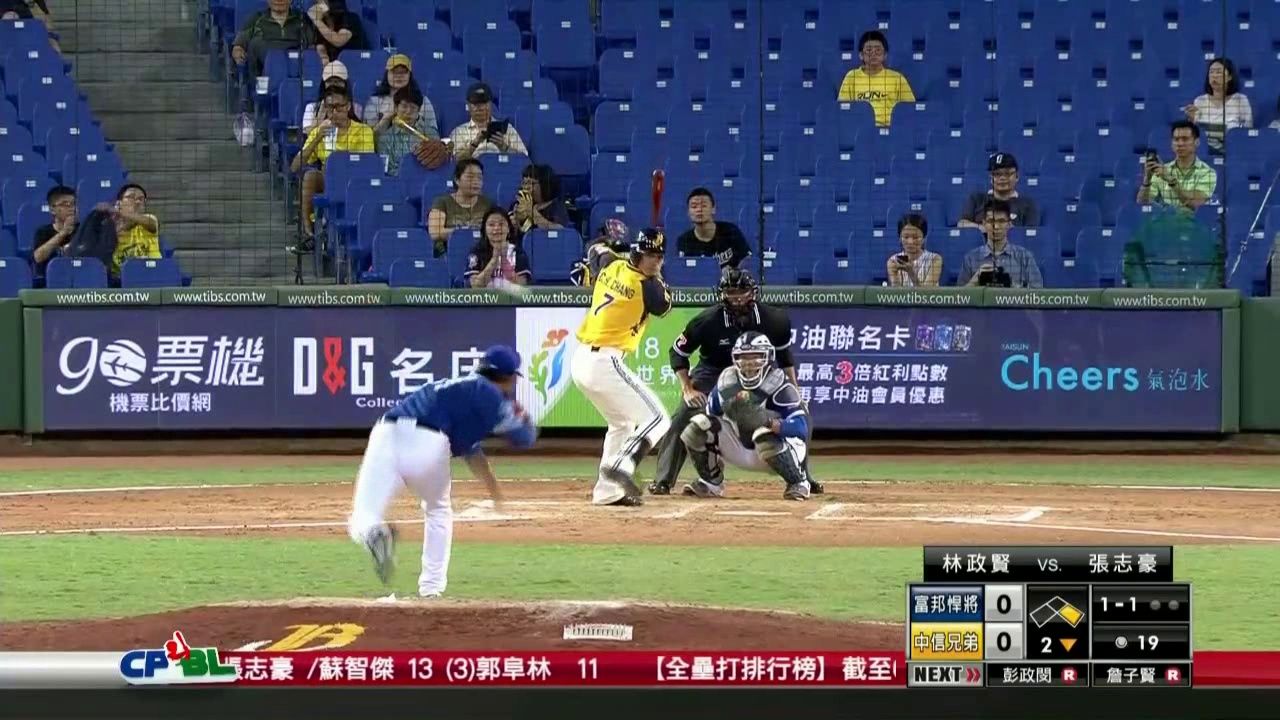ball: (498, 277, 519, 297)
base: (1028, 593, 1088, 628)
bat: (644, 167, 668, 259)
out: (1145, 588, 1186, 616)
score1: (986, 587, 1021, 619)
score2: (986, 624, 1020, 656)
session: (1026, 632, 1088, 659)
strikeball: (1093, 589, 1143, 620)
total: (1095, 628, 1186, 655)
